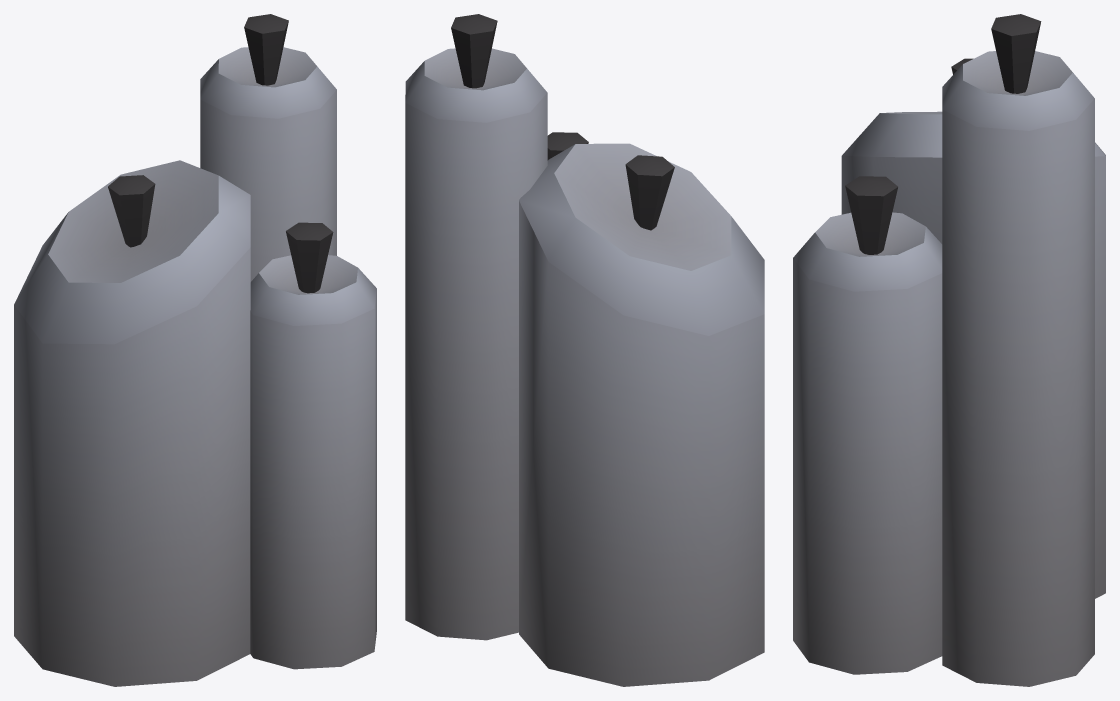
Rendered from candle_triple.glb.
The picture shows the model from 3 angles, left to right: view 1: azimuth 30°, elevation 25°; view 2: azimuth 150°, elevation 25°; view 3: azimuth 270°, elevation 25°; orthographic projection. The views are drawn at different scales.
Visible parts, largest first — view 1: candle_triple; view 2: candle_triple; view 3: candle_triple.
Boxes of the visible parts, x1=… form: candle_triple: x1=14, y1=14, x2=376, y2=686; candle_triple: x1=405, y1=14, x2=764, y2=686; candle_triple: x1=793, y1=14, x2=1105, y2=686.
Size of the model in its own units: 0.5012 by 0.873 by 0.3899.
Materials: 1 (1 with a texture image).
